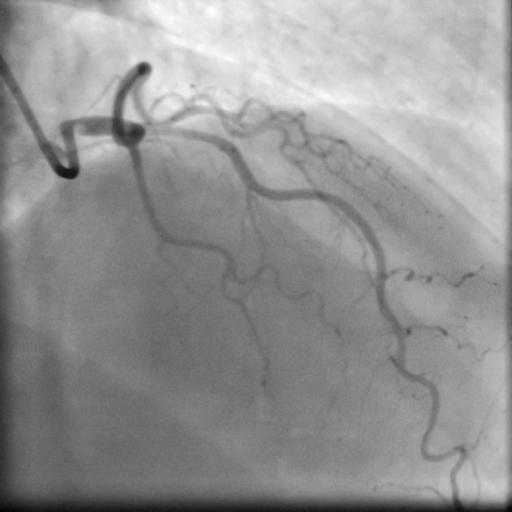Stenosis: (158, 122, 206, 147)
